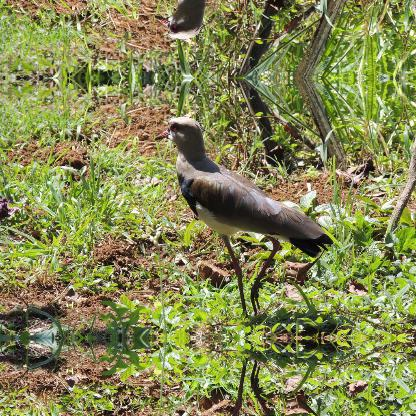Bird: (154, 113, 335, 315), (153, 360, 335, 415), (153, 0, 335, 42)
